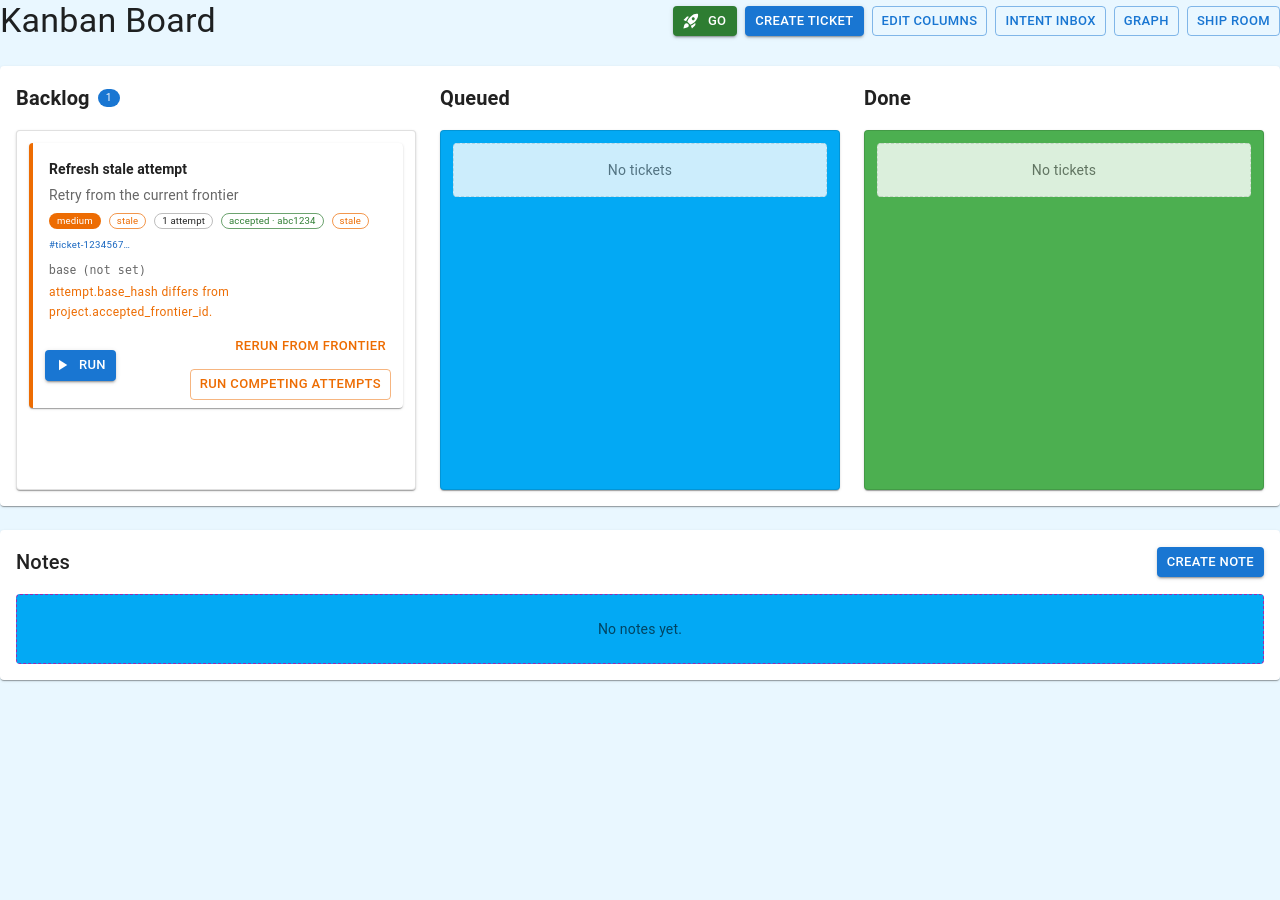
Test: stale ticket card can launch competing attempts from the current frontier
expect the heading "Refresh stale attempt" is shown: met, box [49,161,187,177]
Click the button "Run competing attempts" at [290, 385], box [190,369,391,400]
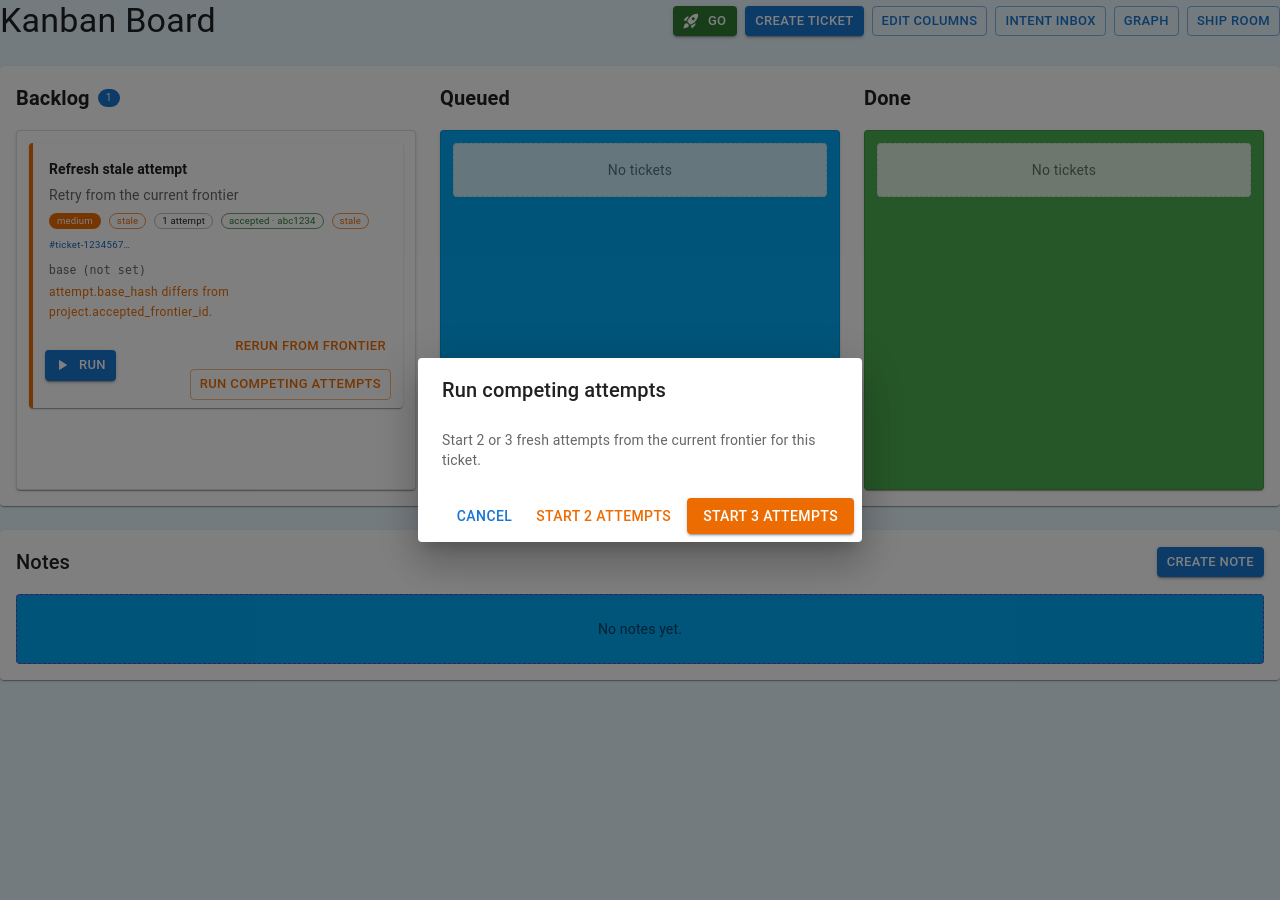
expect the dialog is shown: met, box [418,358,862,542]
expect the text "Start 2 or 3 fresh attempts from the current frontier for this ticket." is shown: met, box [442,422,838,470]
Click the button "Start 3 attempts" at [771, 516], box [687,498,854,534]
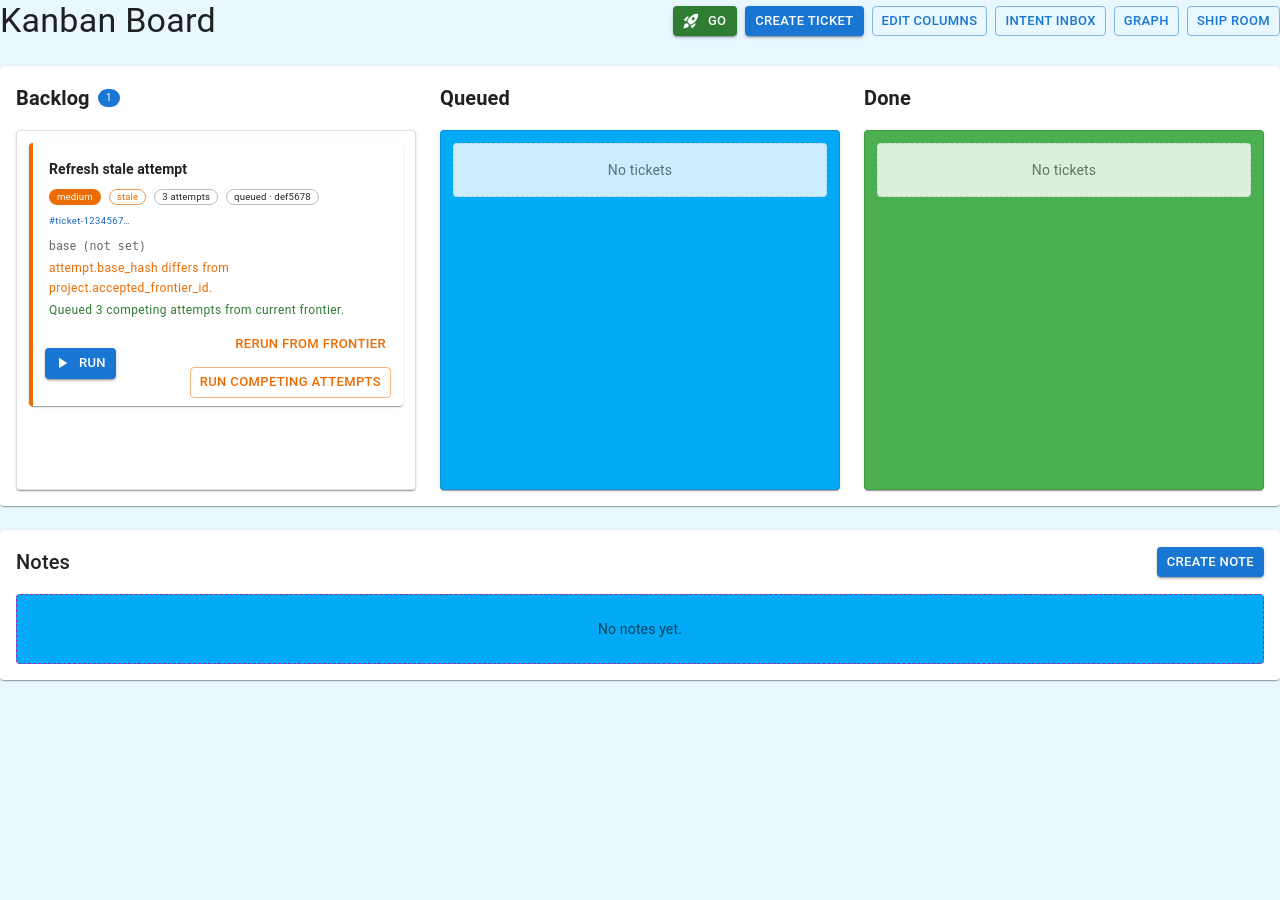
expect the text "Queued 3 competing attempts from current frontier." is shown: met, box [49,301,387,320]
